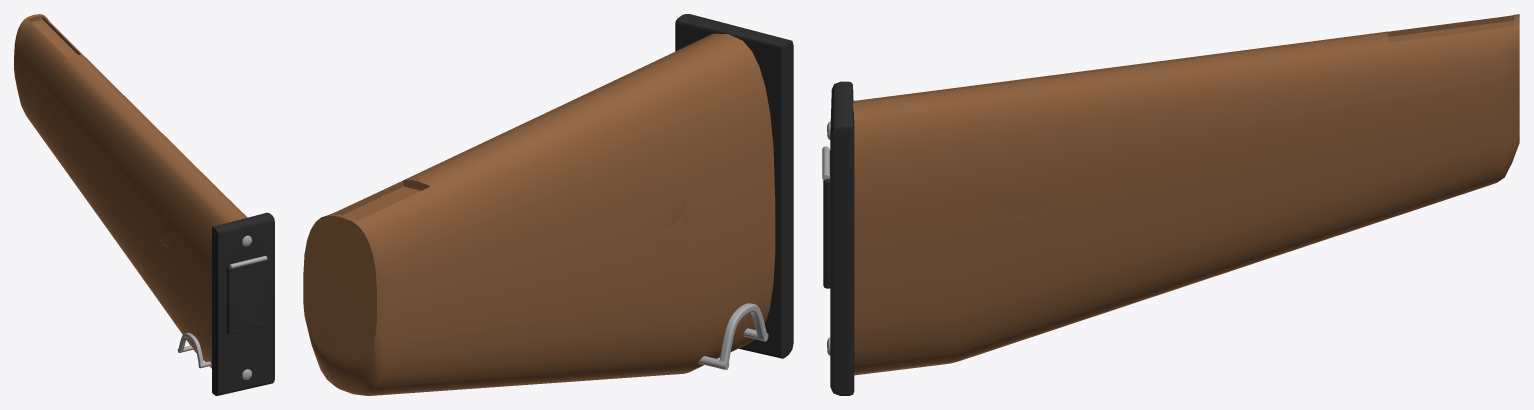
The model's file is stock_ak74.glb.
3 renders of one model, left to right at view 1: azimuth 30°, elevation 25°; view 2: azimuth 150°, elevation 25°; view 3: azimuth 270°, elevation 25°, orthographic. The views are drawn at different scales.
Parts seen in each view (by area): view 1: static_butt.001; view 2: static_butt.001; view 3: static_butt.001.
Part boxes in pixels (x1,y1,x2,y2): static_butt.001: (14,14,274,395); static_butt.001: (303,14,793,395); static_butt.001: (822,14,1519,395).
Bounding box in the file's own units: 0.046 × 0.164 × 0.2902.
